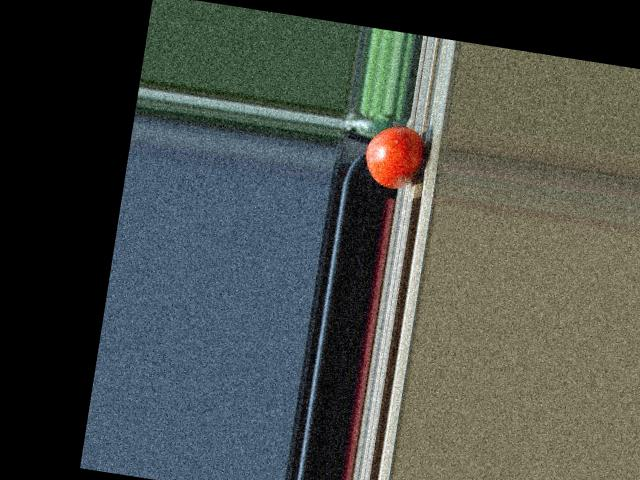tomato: (361, 120, 427, 191)
